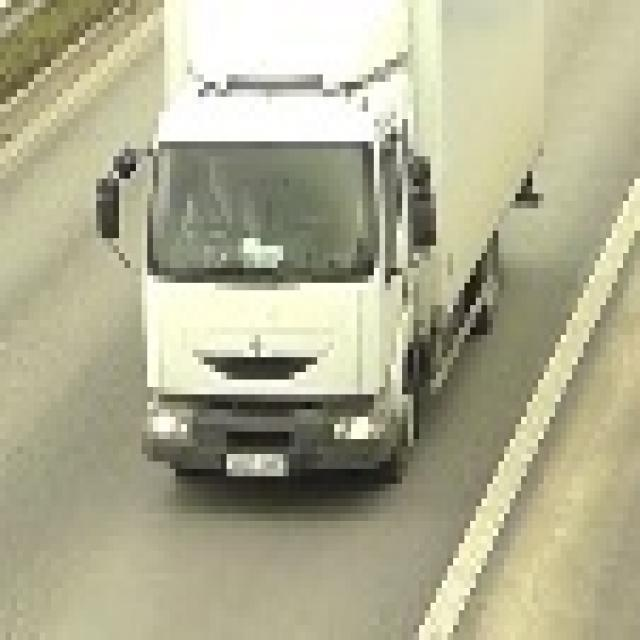truck: (90, 0, 544, 491)
